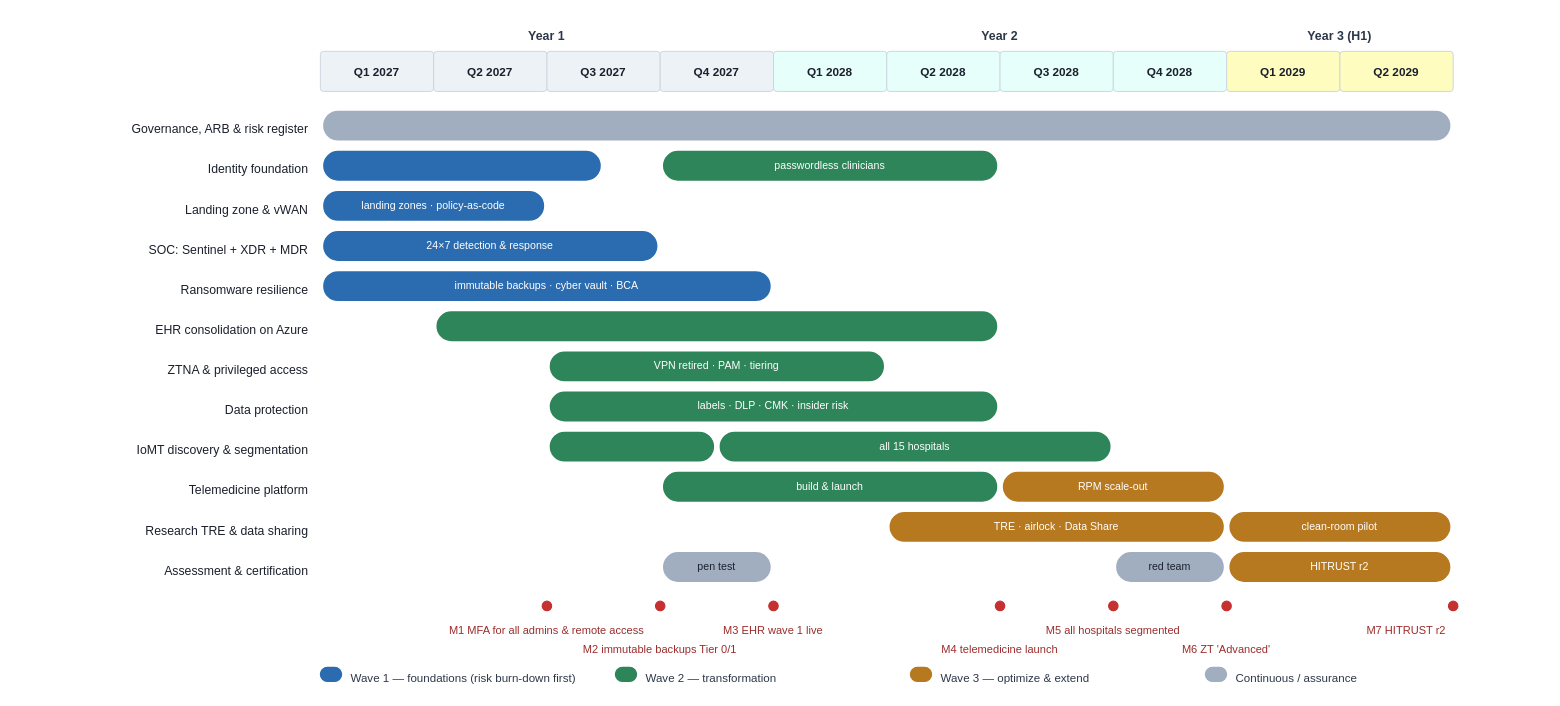
Some shapes in this 1560 by 706 pixel diagram are drawn without their labels. Each missing label, with the box of its shape:
continuous: ARB, policies, risk analysis refresh: (323, 110, 1450, 140)
phishing-resistant MFA · CA · PIM: (323, 150, 600, 180)
pilot: 5 hospitals: (549, 431, 714, 461)
secure-by-design go-live waves: (436, 311, 997, 341)
